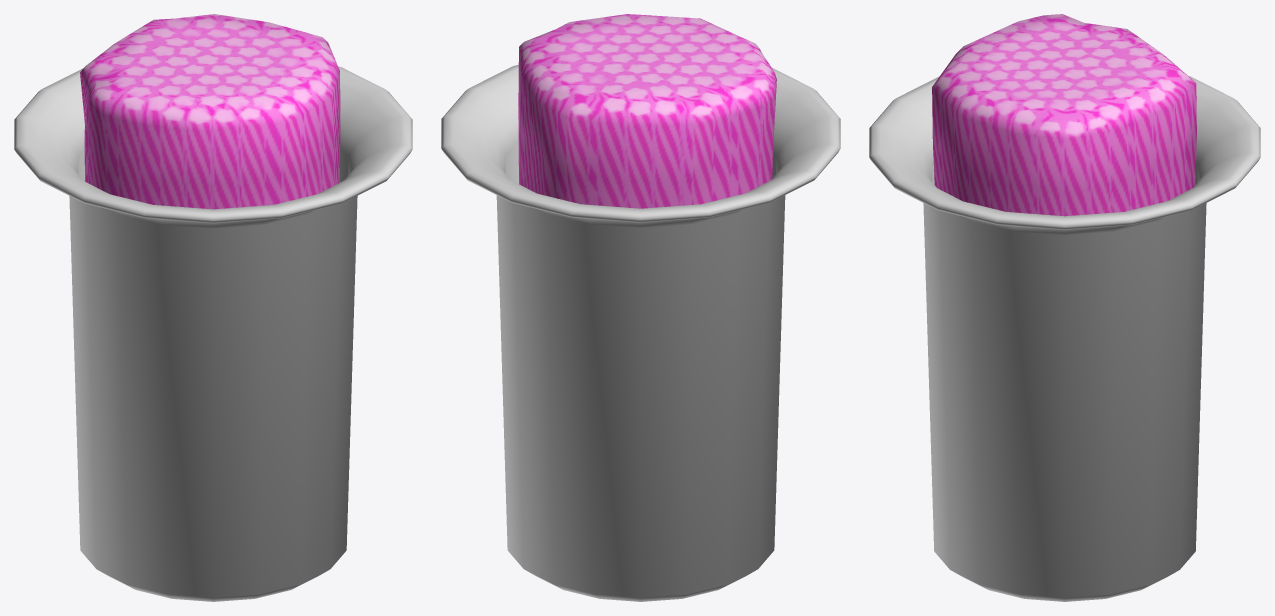
File: BuffetCandy02_2.FBX
3 views of the same model, side by side, from view 1: azimuth 30°, elevation 25°; view 2: azimuth 150°, elevation 25°; view 3: azimuth 270°, elevation 25° (orthographic).
Parts seen in each view (by area): view 1: BuffetCandy02_2; view 2: BuffetCandy02_2; view 3: BuffetCandy02_2.
Boxes of the visible parts, left/top/right/bottom form: BuffetCandy02_2: left=14, top=14, right=412, bottom=601; BuffetCandy02_2: left=441, top=14, right=840, bottom=601; BuffetCandy02_2: left=869, top=14, right=1260, bottom=601.
Size of what is drawn, in the model's own units: 0.1661 by 0.2247 by 0.1636.
